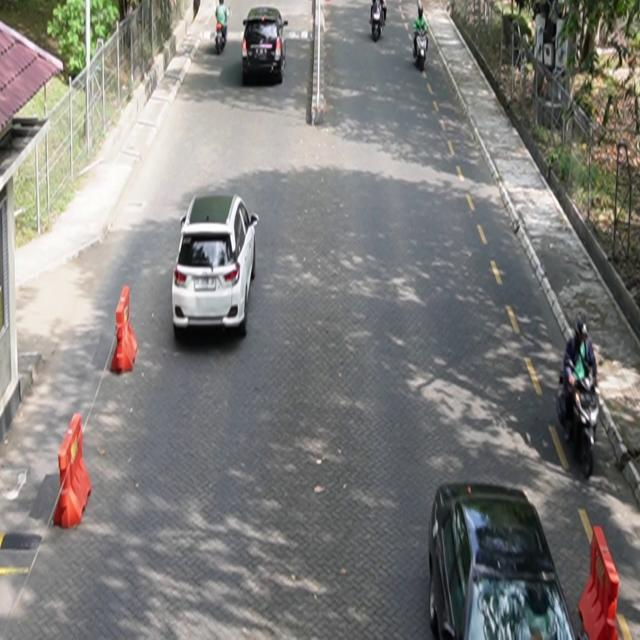car: (429, 481, 578, 640), (172, 193, 260, 337), (243, 6, 290, 85)
